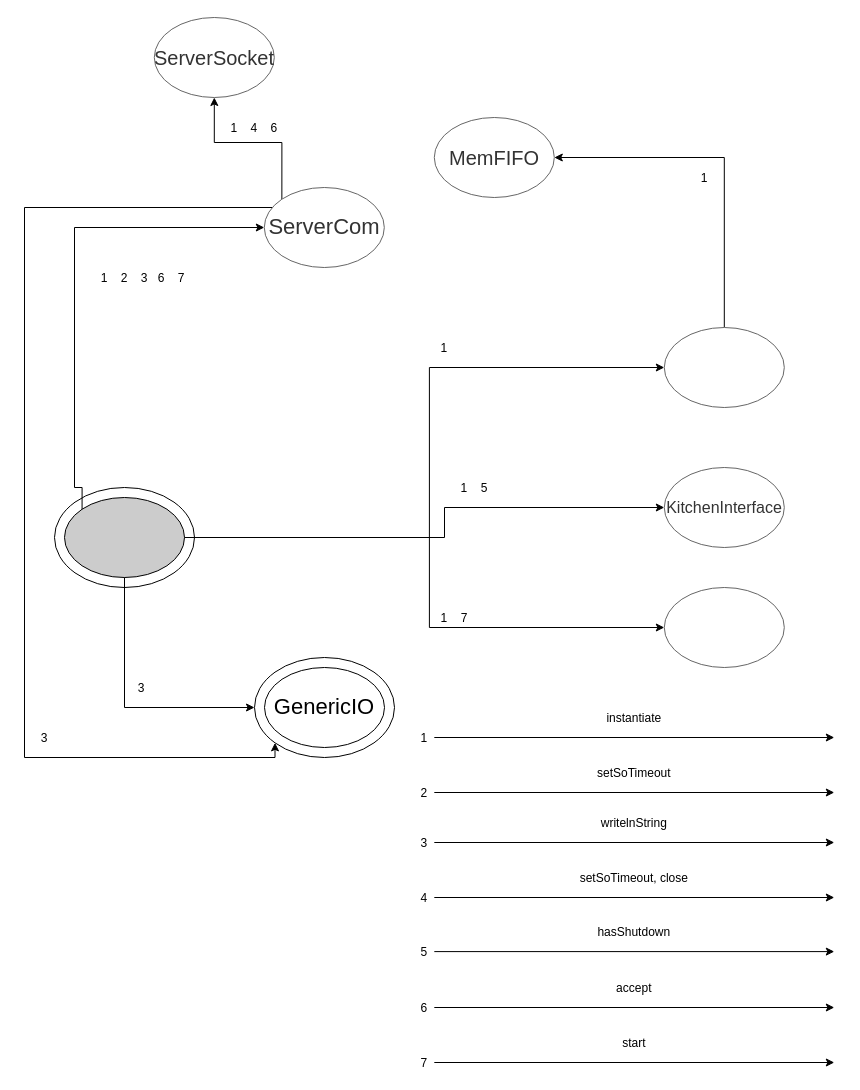
Image size: 860x1090. Some labels were removed from this diagram. The shapes that lost their labels are listed below. From the top down, each one's box as (x1, y1, x2, y2) in pixels, then its label:
(663, 326, 784, 408): Kitchen
(64, 496, 184, 578): GeneralReposMain
(663, 586, 784, 668): ServiceProviderAgent
